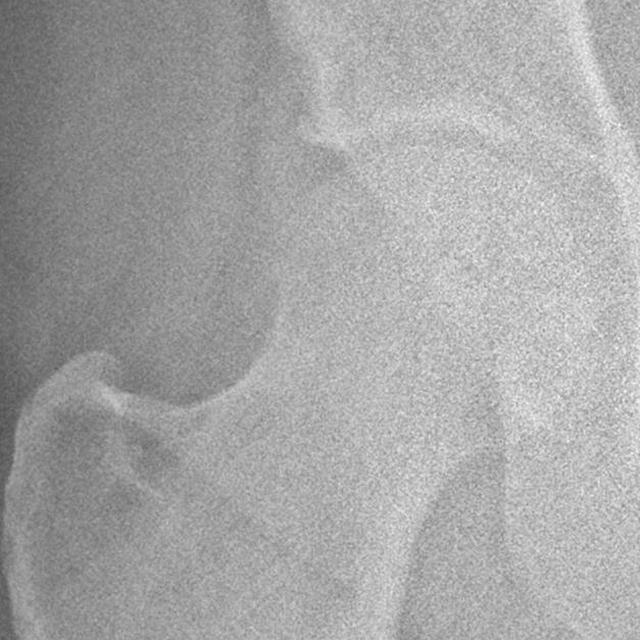Fitted_femural_head: (321, 144, 432, 321)
